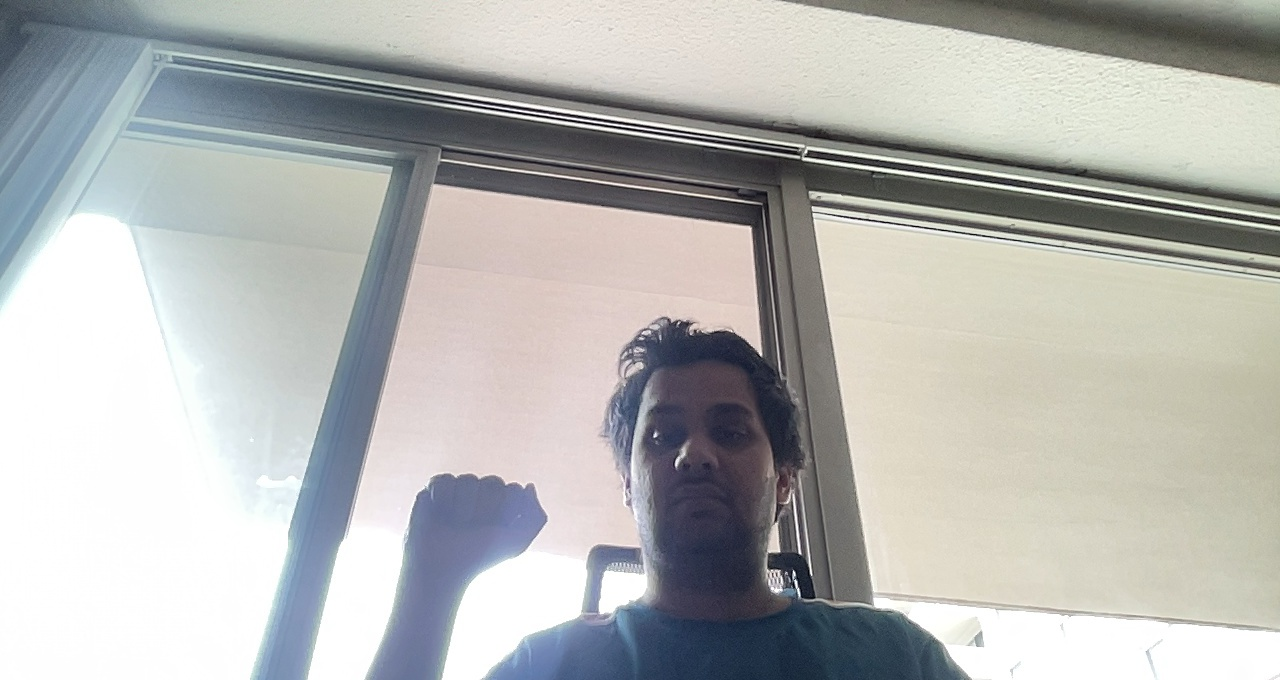closedfist: (401, 465, 559, 582)
